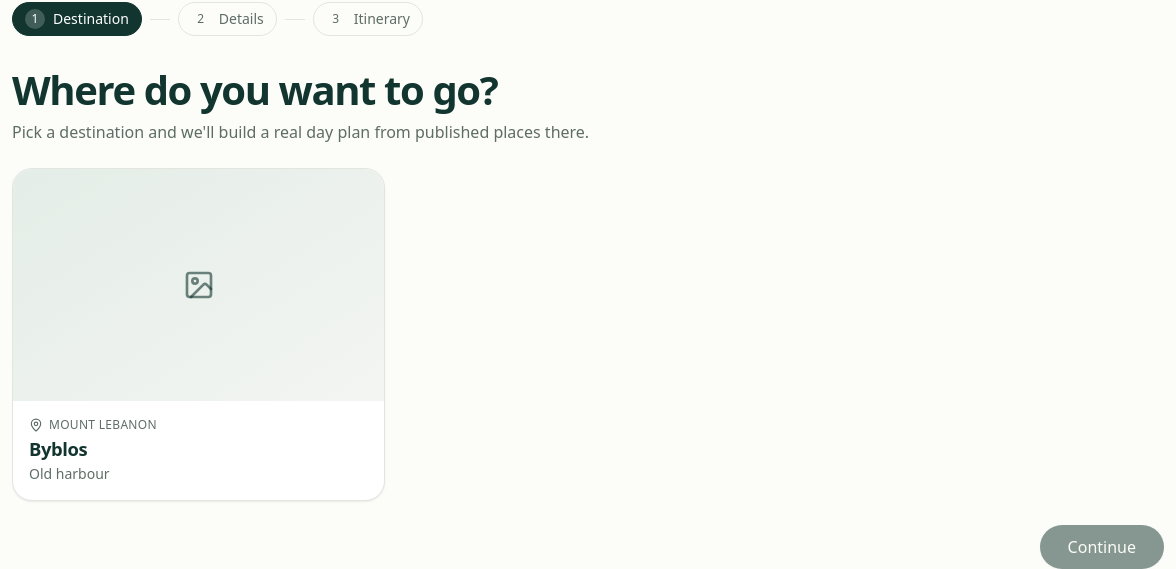
Test: plan flow generation results › says no trusted places were found, without listing unfilled steps, when no plan could be made
The width and height of the screenshot is (1176, 569).
(page scrolled)
Click the button "Mount Lebanon Byblos Old harbour".
click(199, 334)  # box 12,168 -> 385,501
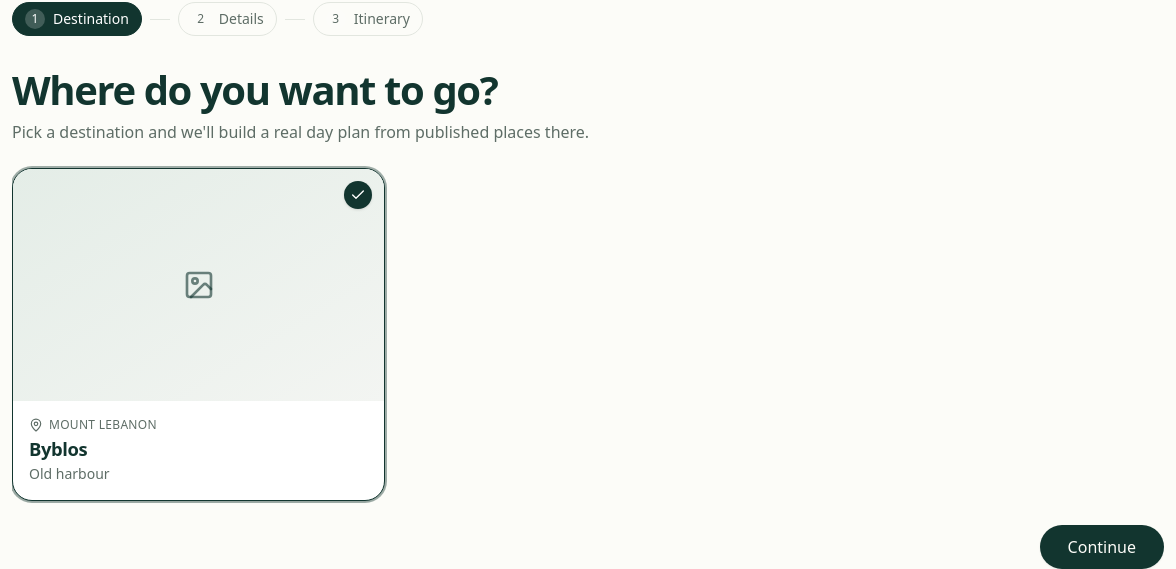
Click the button "Continue".
click(1102, 547)  # box 1040,525 -> 1164,568
(page scrolled)
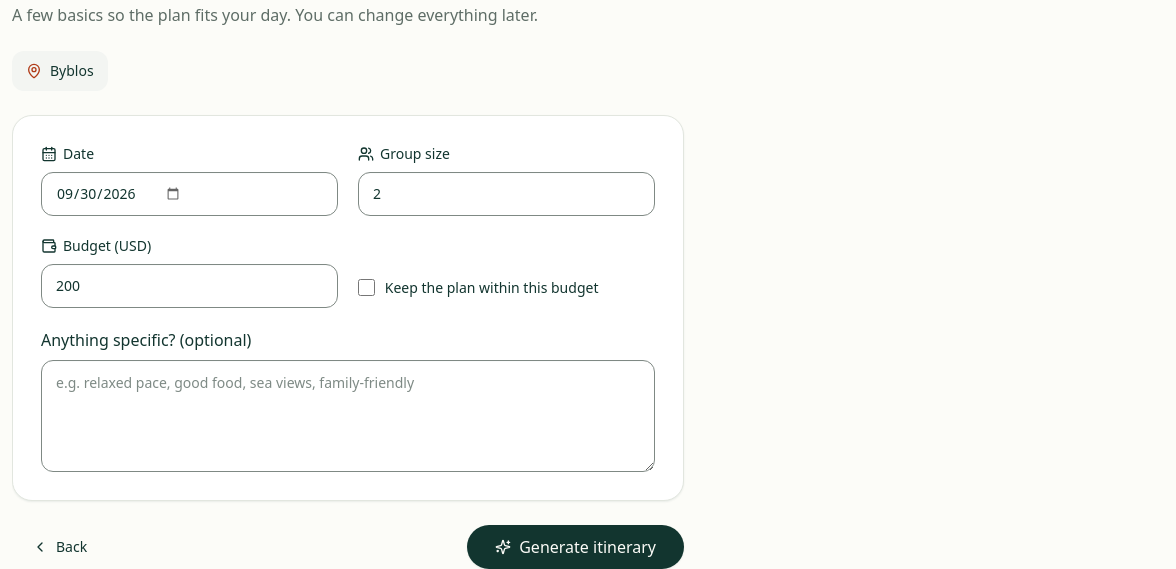
Click the button "Generate itinerary".
click(576, 547)  # box 467,525 -> 684,568
(page scrolled)
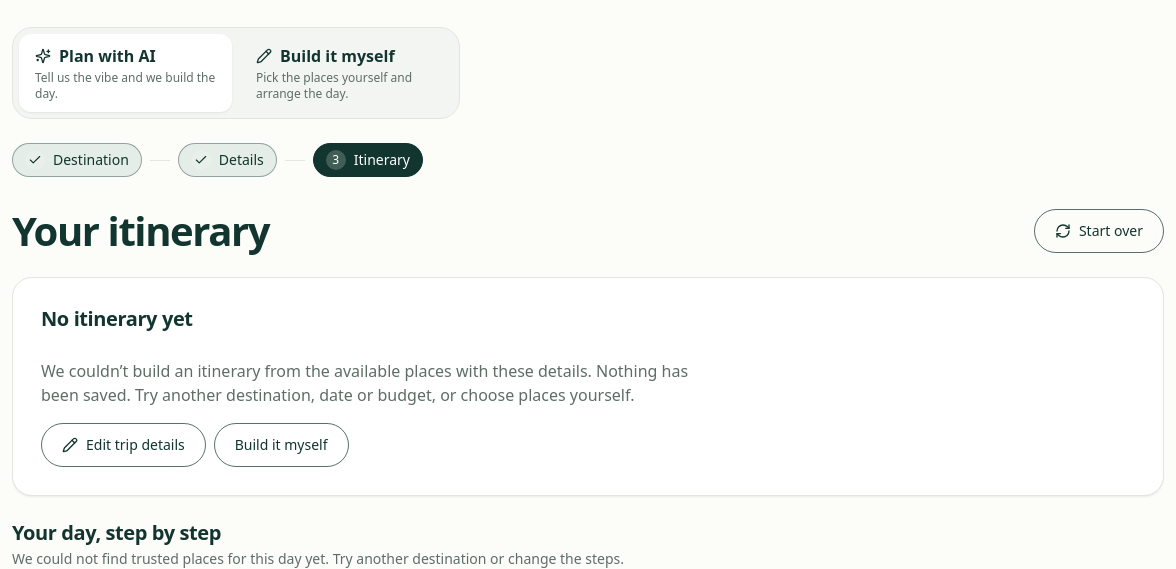
Now the text "We could not find trusted places for this day yet. Try another destination or change the steps." is shown, box 12,550 -> 624,568
